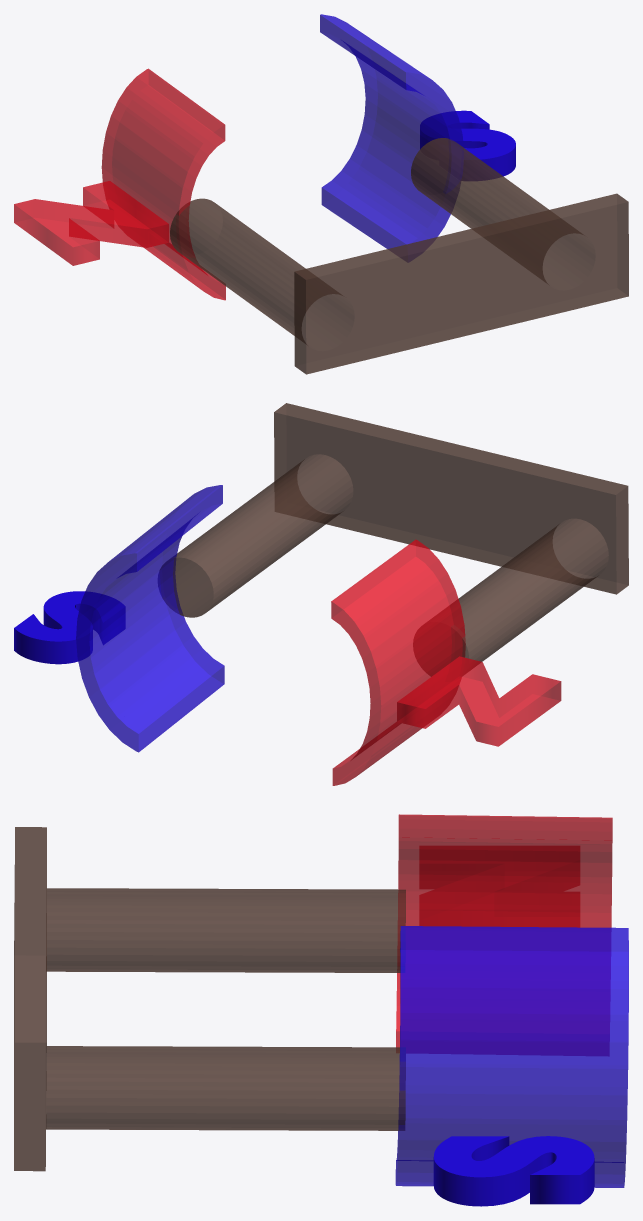
The picture shows the model from 3 angles, top to bottom: view 1: azimuth 30°, elevation 25°; view 2: azimuth 150°, elevation 25°; view 3: azimuth 270°, elevation 25°; orthographic projection. The views are drawn at different scales.
Visible parts, largest first — view 1: Cono.004, Text, Text.001; view 2: Cono.004, Text, Text.001; view 3: Cono.004, Text, Text.001.
Part boxes in pixels (<box>): Cono.004: <box>101,14,628,374</box>; Text: <box>14,181,168,265</box>; Text.001: <box>420,110,515,180</box>; Cono.004: <box>76,403,628,785</box>; Text: <box>397,656,561,746</box>; Text.001: <box>14,591,124,664</box>; Cono.004: <box>14,814,628,1187</box>; Text: <box>420,846,579,926</box>; Text.001: <box>433,1136,594,1206</box>.
Bounding box in the file's own units: 3.61 × 3.06 × 1.44.
